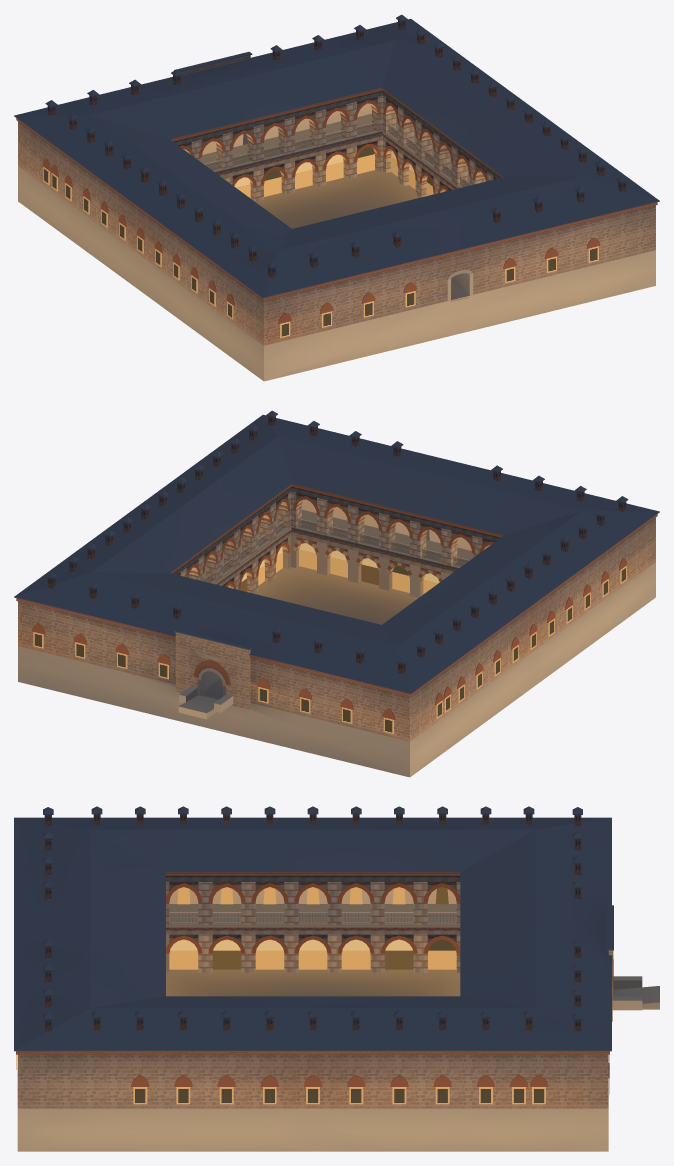
Rendered from emir-hani_v05_night.glb.
3 renders of one model, top to bottom at view 1: azimuth 30°, elevation 25°; view 2: azimuth 150°, elevation 25°; view 3: azimuth 270°, elevation 25°, orthographic. The views are drawn at different scales.
Parts seen in each view (by area): view 1: Emir_Hani, Avlu_Revaklari, Dis_Cephe, Bacalar, Han_Avlu, Girisler; view 2: Emir_Hani, Avlu_Revaklari, Dis_Cephe, Girisler, Bacalar, Han_Avlu; view 3: Emir_Hani, Avlu_Revaklari, Han_Avlu, Dis_Cephe, Bacalar, Girisler.
Part boxes in pixels (box(x1,y1,x2,y2)): Emir_Hani: box(14, 19, 659, 381); Avlu_Revaklari: box(170, 88, 502, 201); Dis_Cephe: box(16, 118, 657, 337); Bacalar: box(45, 14, 628, 277); Han_Avlu: box(256, 170, 419, 228); Girisler: box(174, 51, 473, 301); Emir_Hani: box(14, 415, 659, 777); Avlu_Revaklari: box(171, 484, 503, 597); Dis_Cephe: box(16, 514, 657, 733); Girisler: box(174, 629, 252, 719); Bacalar: box(45, 410, 628, 673); Han_Avlu: box(254, 566, 417, 624); Emir_Hani: box(14, 817, 611, 1151); Avlu_Revaklari: box(166, 872, 460, 972); Han_Avlu: box(166, 954, 460, 996); Dis_Cephe: box(16, 1051, 609, 1104); Bacalar: box(43, 806, 582, 1031); Girisler: box(607, 905, 659, 1021).
Size of the model in its own units: 46.6 by 11.99 by 54.65.
18 materials, 8 textured.
